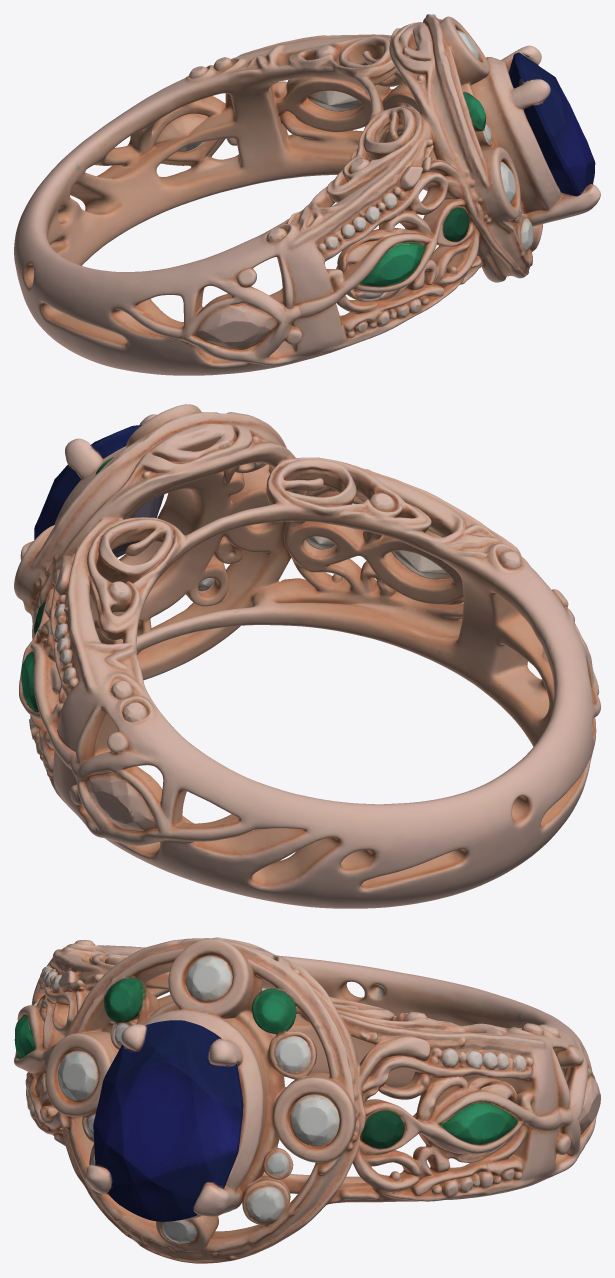
File: Dimond Ring.glb
The picture shows the model from 3 angles, top to bottom: view 1: azimuth 30°, elevation 25°; view 2: azimuth 150°, elevation 25°; view 3: azimuth 270°, elevation 25°; orthographic projection. The views are drawn at different scales.
Parts seen in each view (by area): view 1: tripo_node_0d67eb03-aa81-48d6-a239-44427282e03a; view 2: tripo_node_0d67eb03-aa81-48d6-a239-44427282e03a; view 3: tripo_node_0d67eb03-aa81-48d6-a239-44427282e03a.
Part boxes in pixels (x1,y1,x2,y2): tripo_node_0d67eb03-aa81-48d6-a239-44427282e03a: (14, 14, 600, 375); tripo_node_0d67eb03-aa81-48d6-a239-44427282e03a: (14, 404, 600, 908); tripo_node_0d67eb03-aa81-48d6-a239-44427282e03a: (14, 937, 600, 1263).
Bounding box in the file's own units: 0.9862 × 0.5344 × 0.8664.
Materials: 1 (1 with a texture image).
